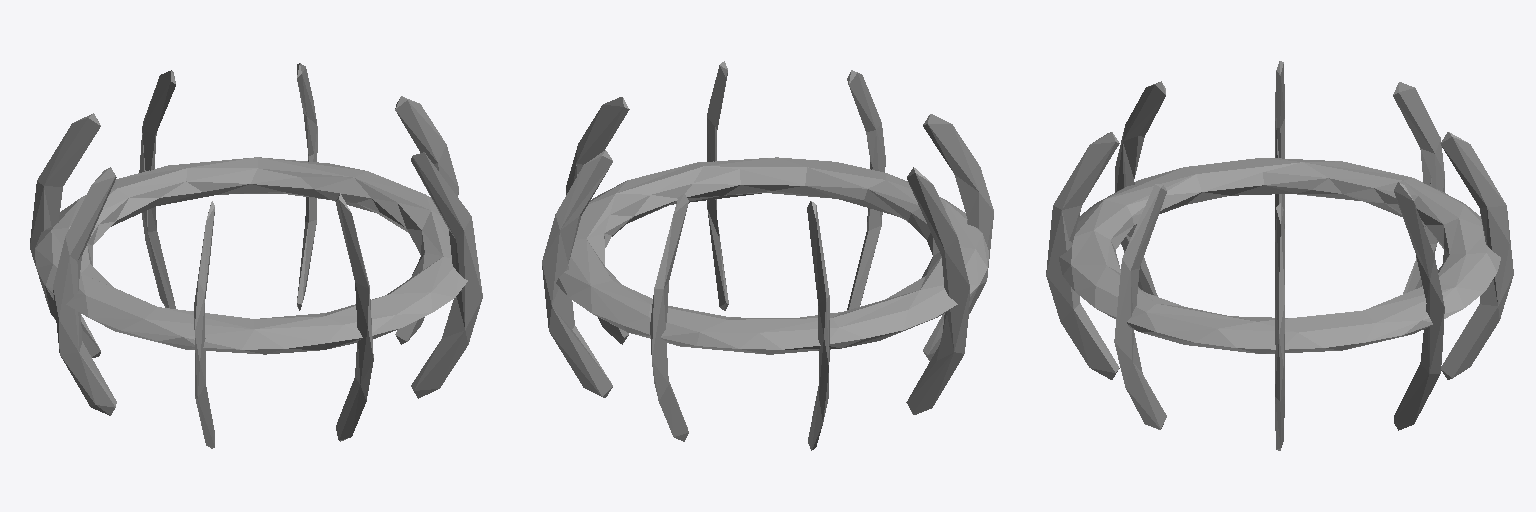
Rendered from warpstation-0.25.obj.
The picture shows the model from 3 angles: view 1: azimuth 30°, elevation 25°; view 2: azimuth 150°, elevation 25°; view 3: azimuth 270°, elevation 25°; orthographic projection.
Parts seen in each view (by area): view 1: Circle.011; view 2: Circle.011; view 3: Circle.011.
Part boxes in pixels (left/top/right/bottom): Circle.011: left=30, top=63, right=482, bottom=448; Circle.011: left=542, top=61, right=993, bottom=450; Circle.011: left=1046, top=61, right=1513, bottom=450.
Bounding box in the file's own units: 39.15 × 22.96 × 39.15.